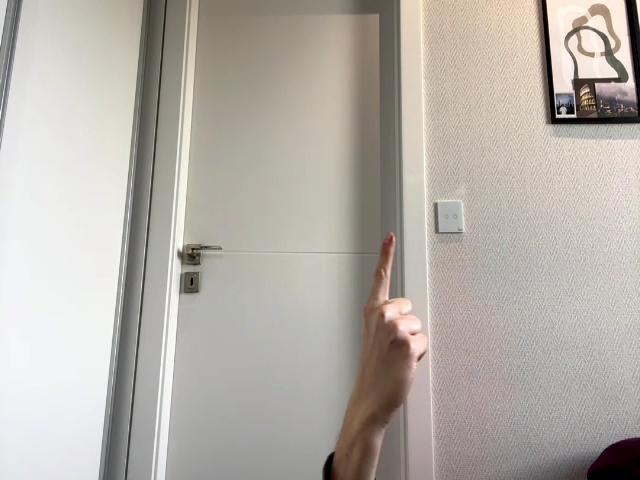D: (357, 233, 428, 429)
